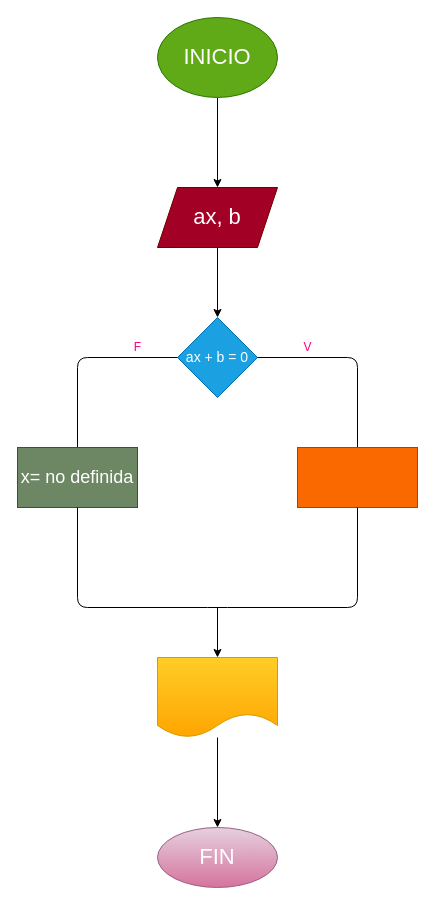
Image size: 435x905. Some labels were removed from this diagram. Each missing label, with the box of its shape:
x = n: (156, 656, 278, 738)
x=-b/a: (296, 446, 418, 508)
